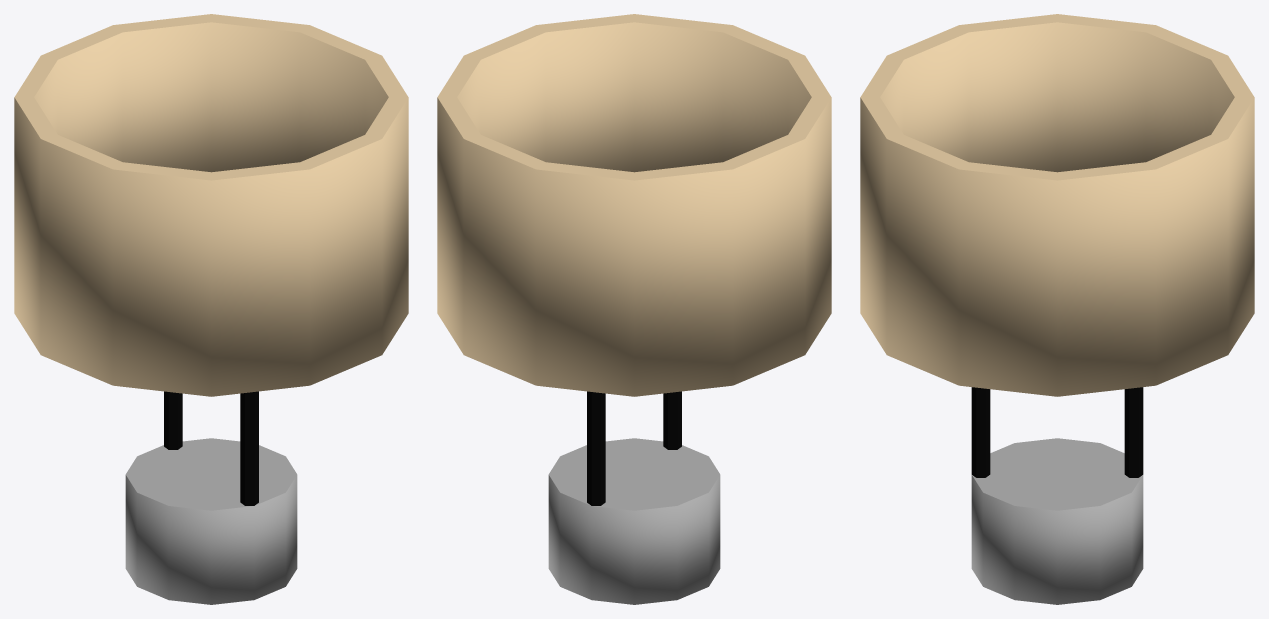
3 renders of one model, left to right at view 1: azimuth 30°, elevation 25°; view 2: azimuth 150°, elevation 25°; view 3: azimuth 270°, elevation 25°, orthographic.
Visible parts, largest first — view 1: Lamp; view 2: Lamp; view 3: Lamp.
Boxes of the visible parts, x1=… form: Lamp: x1=14, y1=14, x2=408, y2=604; Lamp: x1=437, y1=14, x2=831, y2=604; Lamp: x1=860, y1=14, x2=1254, y2=604.
Bounding box in the file's own units: 1.35 × 1.78 × 1.35.
